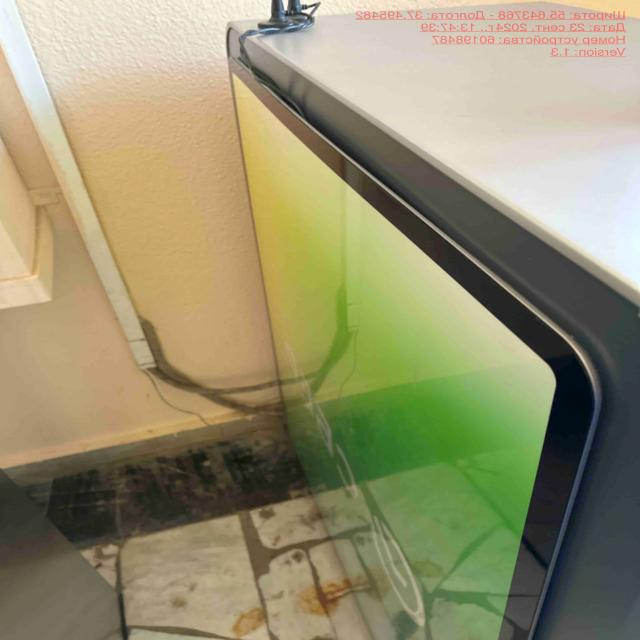bank: (223, 3, 640, 640)
